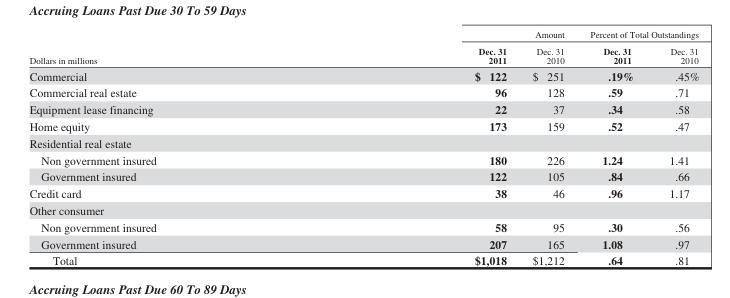table: (28, 28, 698, 266)
table column: (28, 28, 314, 266), (314, 28, 518, 266), (576, 28, 651, 266), (518, 28, 576, 266), (651, 28, 698, 266)
table column header: (28, 28, 698, 66)
table projected row header: (28, 134, 698, 151), (28, 201, 698, 218)
table row: (28, 42, 698, 66), (28, 66, 698, 83), (28, 83, 698, 100), (28, 100, 698, 117), (28, 117, 698, 134), (28, 134, 698, 151), (28, 167, 698, 184), (28, 184, 698, 201), (28, 201, 698, 218), (28, 218, 698, 235), (28, 151, 698, 167), (28, 235, 698, 251), (28, 251, 698, 266), (28, 28, 698, 42)
table spanning cell: (28, 28, 314, 66), (314, 28, 576, 42), (576, 28, 698, 42)
